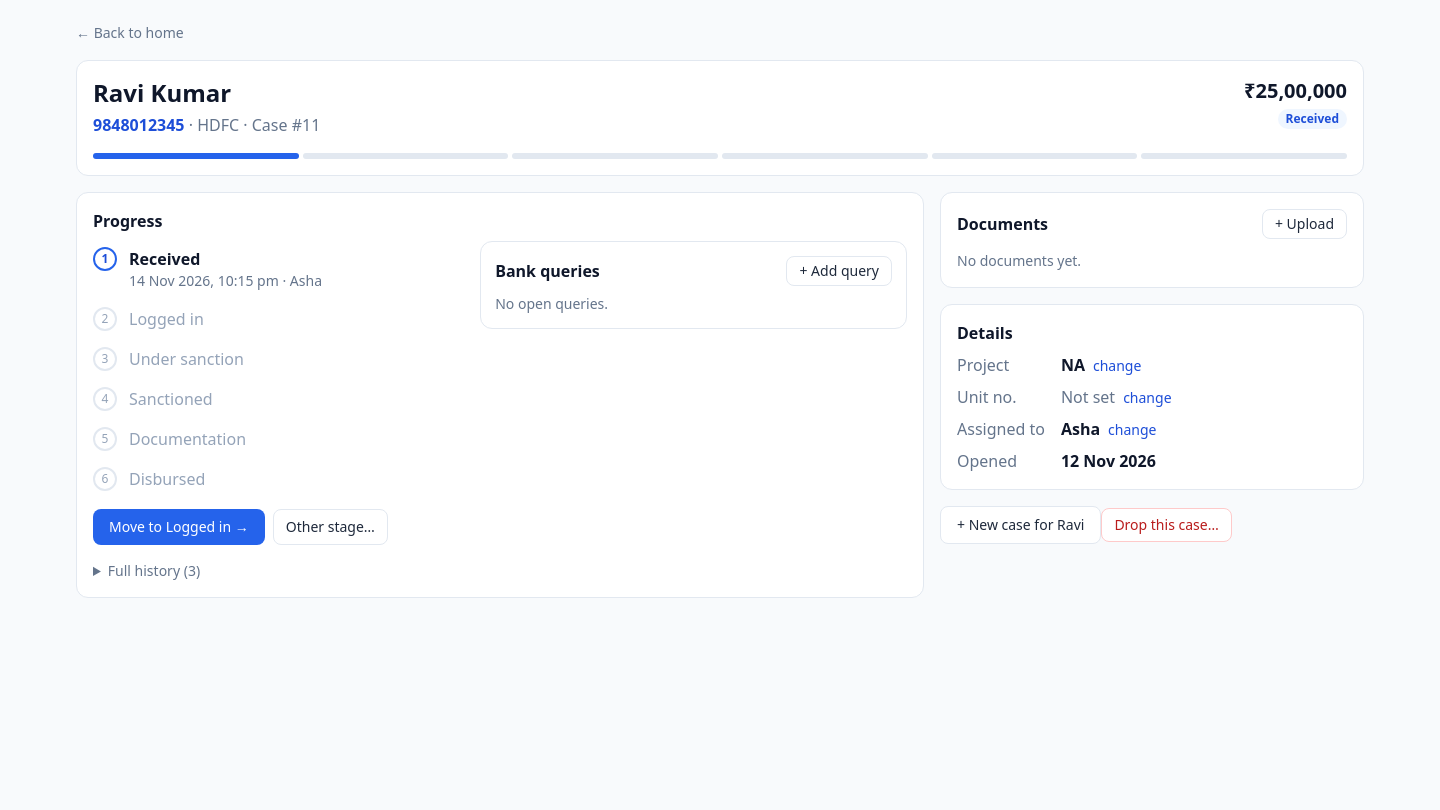
Test case: CaseDetail › New case for Ravi opens the form
Click the button "+ New case for Ravi".
click(1021, 525)  # box top-left (940, 506), bottom-right (1101, 544)
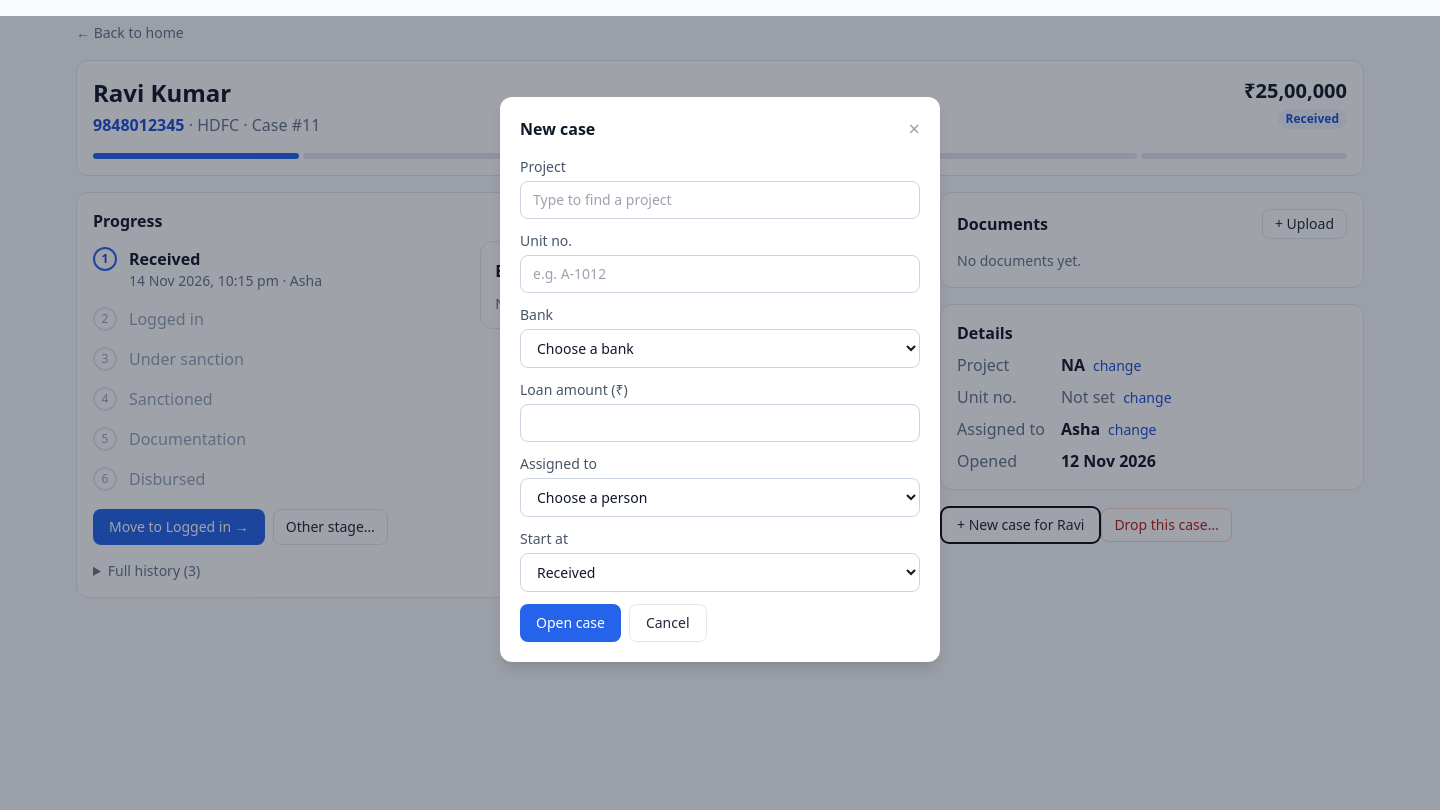
expect the dialog "New case" is shown: met, box top-left (500, 97), bottom-right (940, 662)
